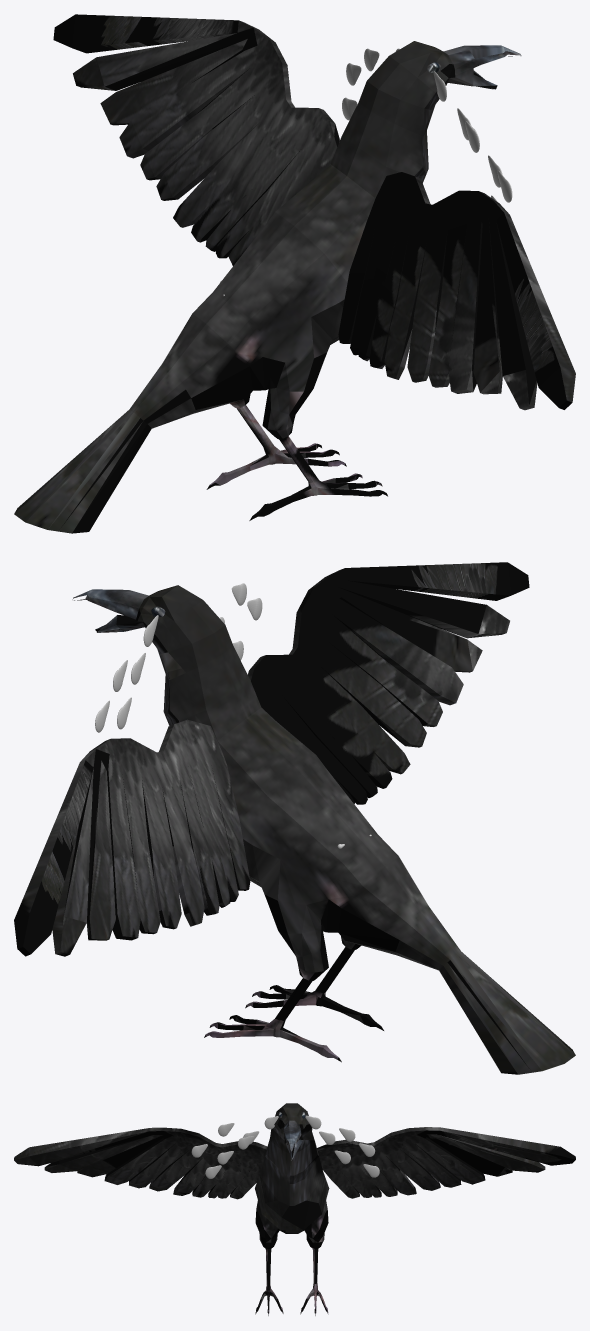
File: aasooo_000018.obj
3 views of the same model, one above another, from view 1: azimuth 30°, elevation 25°; view 2: azimuth 150°, elevation 25°; view 3: azimuth 270°, elevation 25° (orthographic). The views are drawn at different scales.
Visible parts, largest first — view 1: Cylinder.001, Cylinder.002, Cylinder.003; view 2: Cylinder.001, Cylinder.003, Cylinder.002; view 3: Cylinder.002, Cylinder.003, Cylinder.001.
Boxes of the visible parts, <box> form: Cylinder.001: <box>14,41,521,533</box>; Cylinder.002: <box>53,14,339,265</box>; Cylinder.003: <box>338,172,575,410</box>; Cylinder.001: <box>72,585,575,1074</box>; Cylinder.003: <box>248,562,529,804</box>; Cylinder.002: <box>14,719,250,956</box>; Cylinder.002: <box>317,1127,575,1198</box>; Cylinder.003: <box>14,1127,267,1199</box>; Cylinder.001: <box>255,1103,329,1315</box>.
Size of the model in its own units: 2.61 by 2.05 by 4.61.
